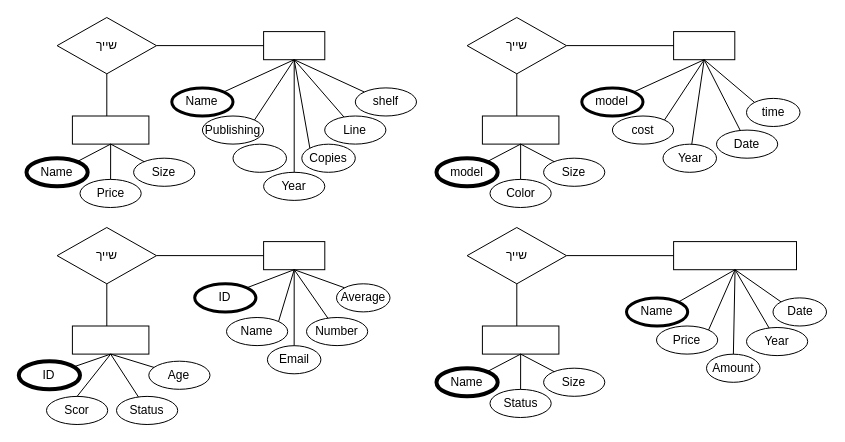
Some shapes in this 845 by 442 pixel diagram are drawn without their labels. The shapes that lost their labels are listed below. From the top down, each one's centre as x and y in pixels, then its label:
At point (294, 45): "book_stor".
At point (704, 45): "Car_Rental".
At point (110, 129): "Book".
At point (520, 129): "Car".
At point (259, 157): "Author".
At point (294, 255): "College".
At point (734, 255): "Product_Company".
At point (110, 339): "Student".
At point (520, 339): "Product".
